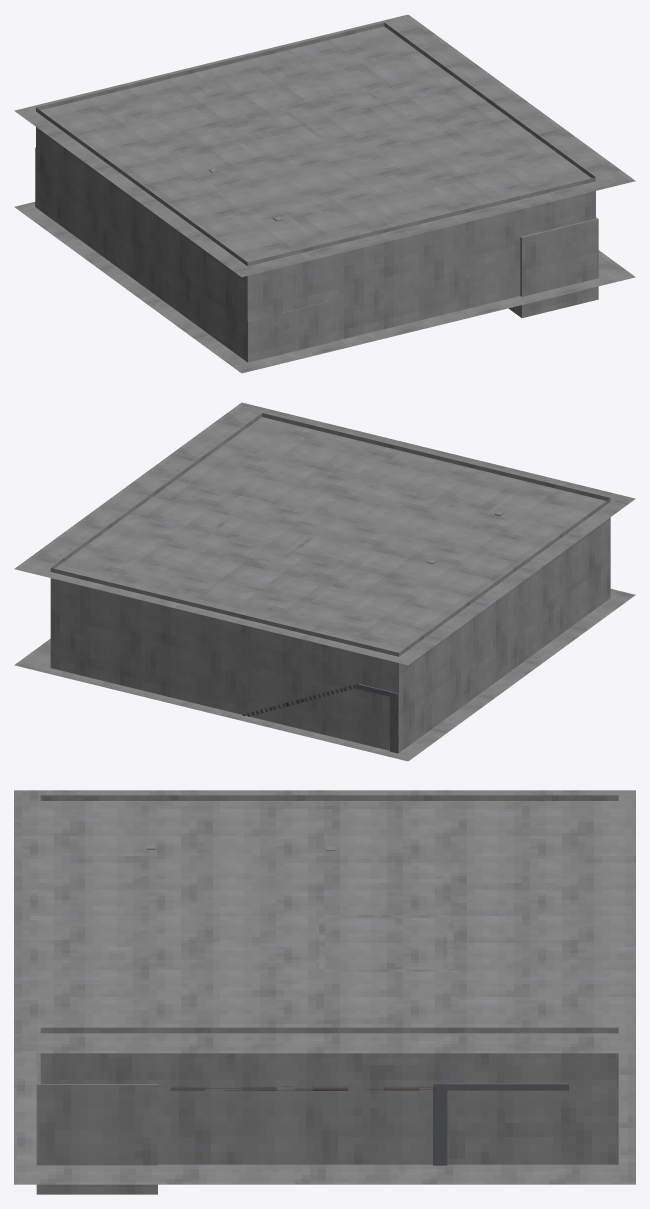
File: concretes.fbx
The picture shows the model from 3 angles, top to bottom: view 1: azimuth 30°, elevation 25°; view 2: azimuth 150°, elevation 25°; view 3: azimuth 270°, elevation 25°; orthographic projection. The views are drawn at different scales.
Parts seen in each view (by area): view 1: concrete; view 2: concrete, floor.center; view 3: concrete, floor.center, bridges.
Boxes of the visible parts, x1=… form: concrete: x1=14, y1=14, x2=635, y2=373; concrete: x1=14, y1=402, x2=635, y2=761; floor.center: x1=357, y1=683, x2=398, y2=753; concrete: x1=14, y1=790, x2=635, y2=1194; floor.center: x1=433, y1=1083, x2=568, y2=1165; bridges: x1=152, y1=1086, x2=436, y2=1090.
Bounding box in the file's own units: 5084 × 1503 × 5084.
